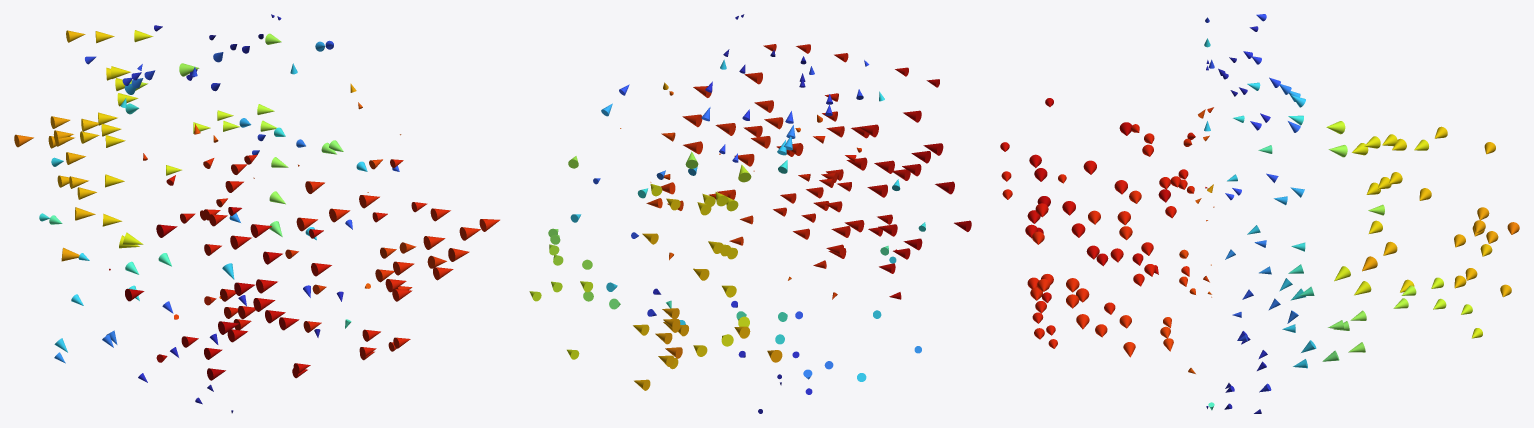
Rendered from LineasCorrienteH2-O2_mh2-5.58_V-0.8.glb.
3 renders of one model, left to right at view 1: azimuth 30°, elevation 25°; view 2: azimuth 150°, elevation 25°; view 3: azimuth 270°, elevation 25°, orthographic. The views are drawn at different scales.
Bounding box in the file's own units: 0.000918 × 0.000975 × 0.00122.
2 materials, 2 textured.
